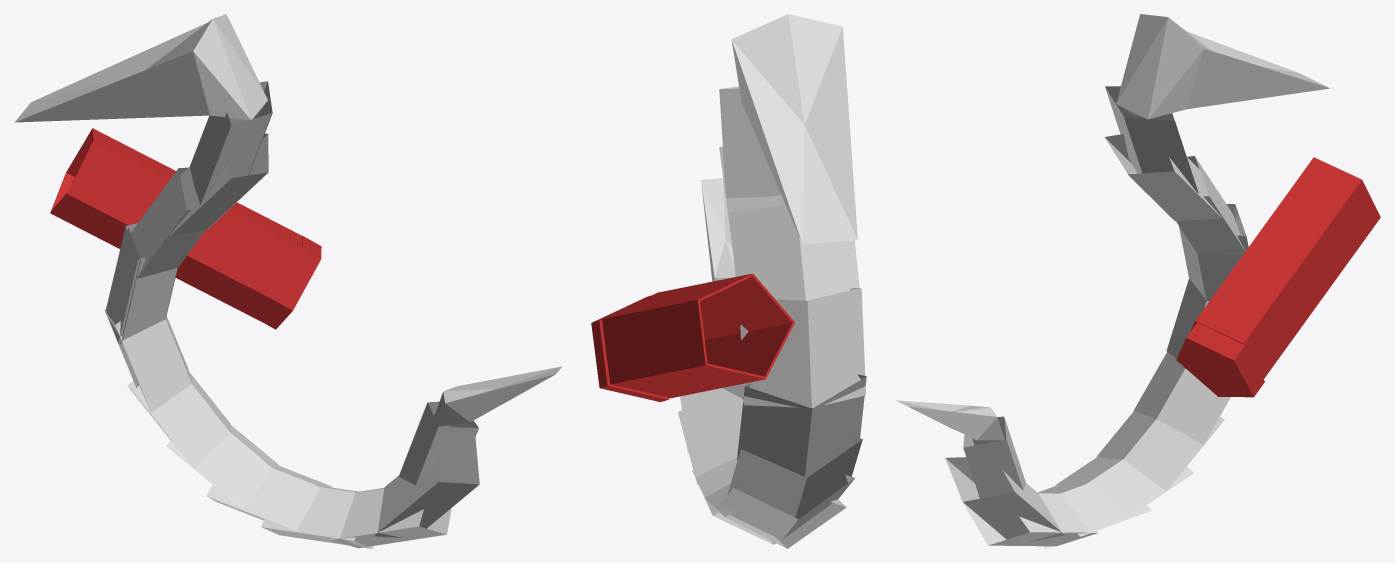
Rendered from Snake_newPosition.fbx.
3 renders of one model, left to right at view 1: azimuth 30°, elevation 25°; view 2: azimuth 150°, elevation 25°; view 3: azimuth 270°, elevation 25°, orthographic. The views are drawn at different scales.
Parts seen in each view (by area): view 1: Röhre, Platonischer_Körper, Ebene_15, Ebene_10, Ebene_8, Ebene_17, Ebene_13, Ebene_7, Ebene_18, Ebene_4, Ebene_14, Platonischer_Körper_1 (+5 smaller); view 2: Platonischer_Körper, Röhre, Ebene_12, Ebene_13, Ebene_10, Ebene_8, Ebene_15, Ebene_17, Ebene_7, Platonischer_Körper_1, Ebene_16, Ebene_4 (+3 smaller); view 3: Röhre, Platonischer_Körper, Ebene_8, Ebene_7, Röhre_1, Ebene_17, Ebene_15, Ebene_14, Ebene_4, Ebene_18, Ebene_16, Ebene_13 (+4 smaller).
Part boxes in pixels (x1,y1,x2,y2): Röhre: (50, 128, 302, 320); Platonischer_Körper: (14, 14, 267, 122); Ebene_15: (190, 81, 272, 205); Ebene_10: (104, 309, 191, 412); Ebene_8: (127, 366, 230, 467); Ebene_17: (373, 438, 479, 537); Ebene_13: (131, 167, 205, 278); Ebene_7: (166, 410, 278, 508); Ebene_18: (398, 401, 478, 485); Ebene_4: (206, 460, 332, 530); Ebene_14: (170, 133, 268, 235); Platonischer_Körper_1: (434, 366, 562, 426); Platonischer_Körper: (731, 14, 857, 244); Röhre: (602, 273, 794, 398); Ebene_12: (741, 288, 865, 408); Ebene_13: (729, 204, 859, 300); Ebene_10: (737, 374, 866, 477); Ebene_8: (727, 436, 862, 519); Ebene_15: (719, 86, 781, 197); Ebene_17: (680, 388, 743, 452); Ebene_7: (717, 474, 854, 539); Platonischer_Körper_1: (701, 178, 735, 281); Ebene_16: (678, 410, 740, 485); Ebene_4: (705, 483, 846, 548); Röhre: (1190, 157, 1380, 378); Platonischer_Körper: (1116, 14, 1329, 119); Ebene_8: (1134, 352, 1230, 444); Ebene_7: (1096, 410, 1224, 490); Röhre_1: (1176, 322, 1264, 397); Ebene_17: (945, 457, 1064, 541); Ebene_15: (1105, 86, 1198, 193); Ebene_14: (1105, 134, 1221, 221); Ebene_4: (1055, 457, 1193, 519); Ebene_18: (963, 416, 1025, 498); Ebene_16: (960, 493, 1098, 546); Ebene_13: (1176, 156, 1245, 254).
Size of the model in its own units: 713 by 1005 by 906.
